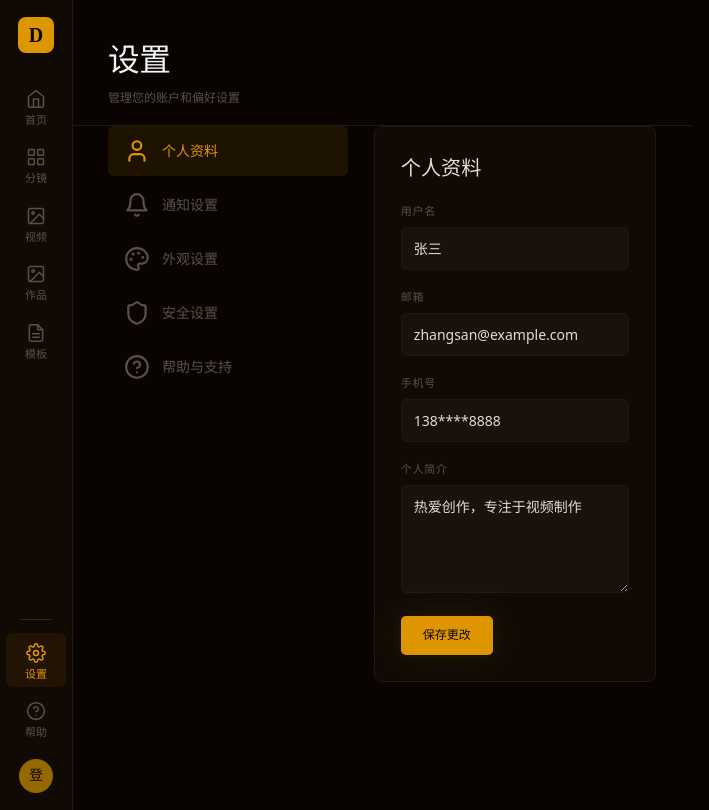
设置页面测试 › 导航切换测试 › 点击通知设置切换页面
Click the button "通知设置": coordinates (228, 205) [108,180,348,230]
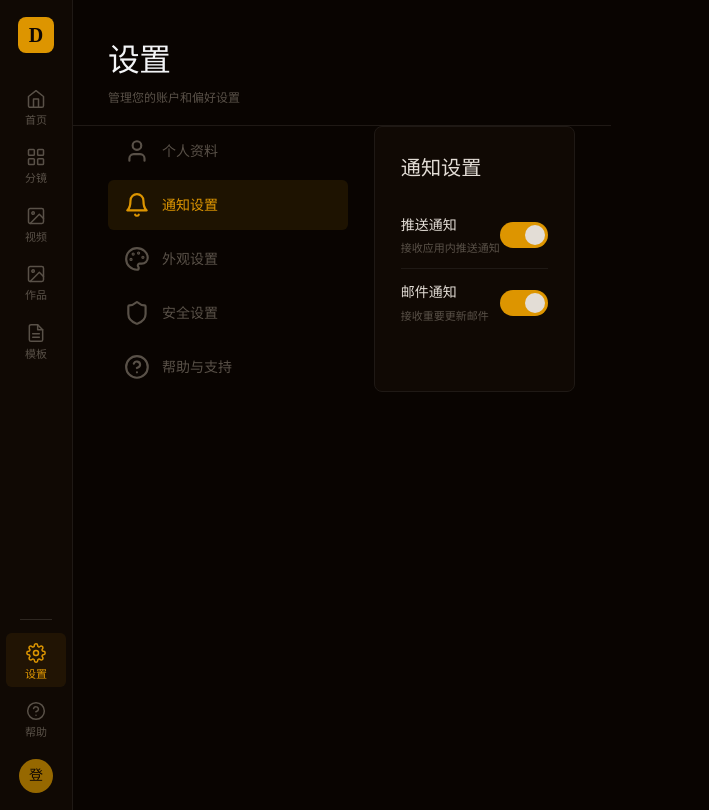
Expected: the text "推送通知" is shown, [401,215,457,234]
Expected: the text "邮件通知" is shown, [401,282,457,301]
